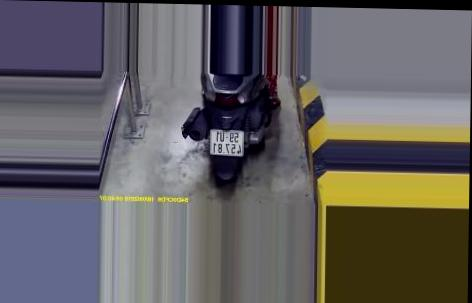License_Plate: (206, 126, 248, 162)
